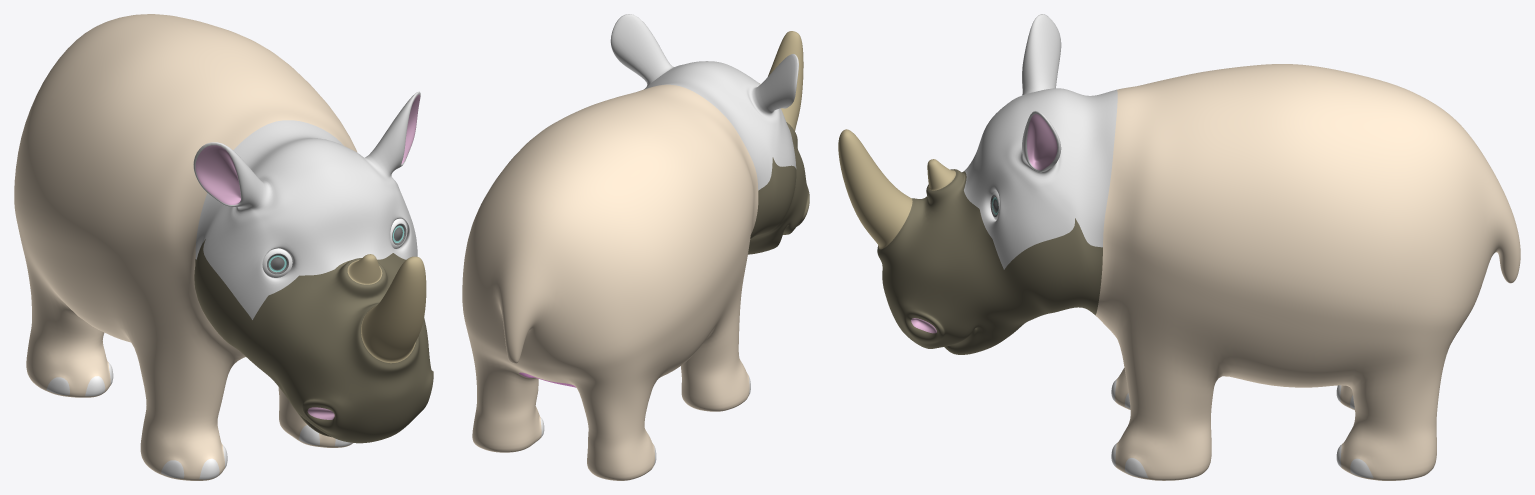
File: uploads_files_3310837_RhinoCartoon 1.fbx
3 views of the same model, side by side, from view 1: azimuth 30°, elevation 25°; view 2: azimuth 150°, elevation 25°; view 3: azimuth 270°, elevation 25° (orthographic). The views are drawn at different scales.
Parts seen in each view (by area): view 1: Hippo; view 2: Hippo; view 3: Hippo.
Part boxes in pixels (bbox=[...]): Hippo: bbox=[14, 14, 433, 480]; Hippo: bbox=[462, 14, 809, 480]; Hippo: bbox=[838, 14, 1520, 480].
Bounding box in the file's own units: 1723 × 2358 × 3940.
